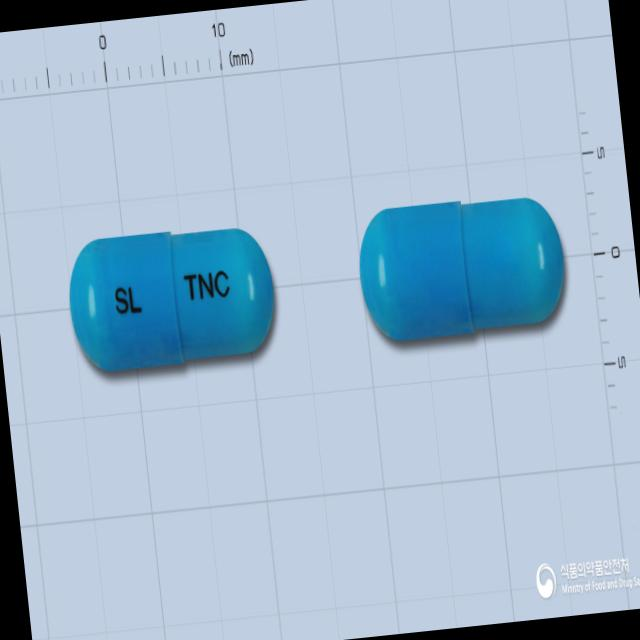Tricyline-N Cap: (64, 218, 282, 378)
